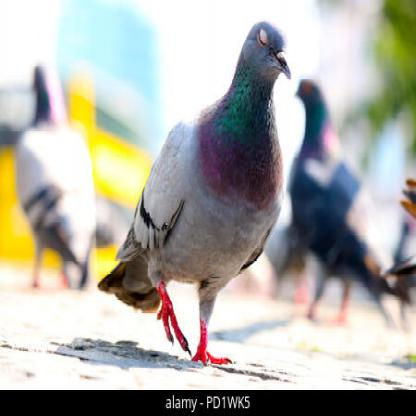Rock Pigeon: (103, 22, 297, 370), (300, 79, 393, 331), (11, 63, 96, 291)
